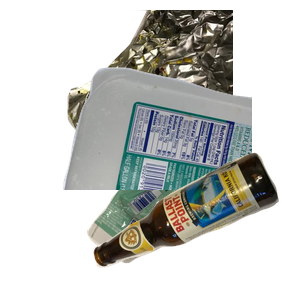glass: (91, 150, 300, 300)
metal: (60, 10, 300, 190)
plastic: (60, 65, 300, 245)
trash: (84, 133, 292, 300)
